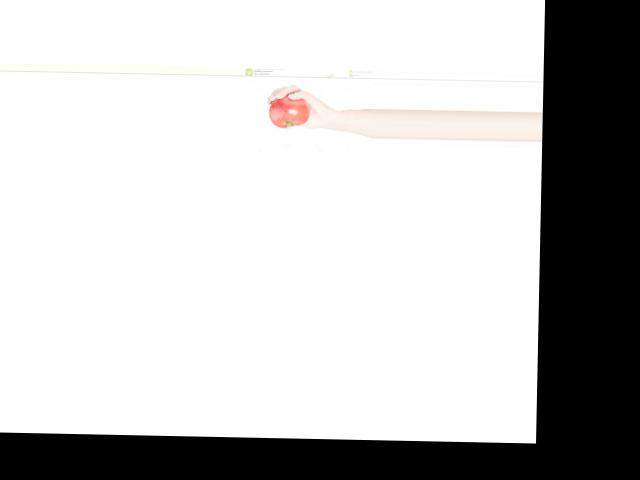tomato: (269, 94, 311, 128)
